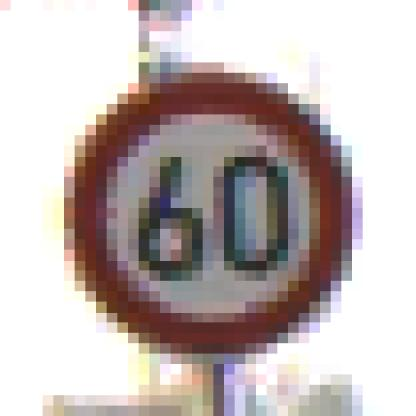Speed Limit 60: (79, 78, 343, 350)
